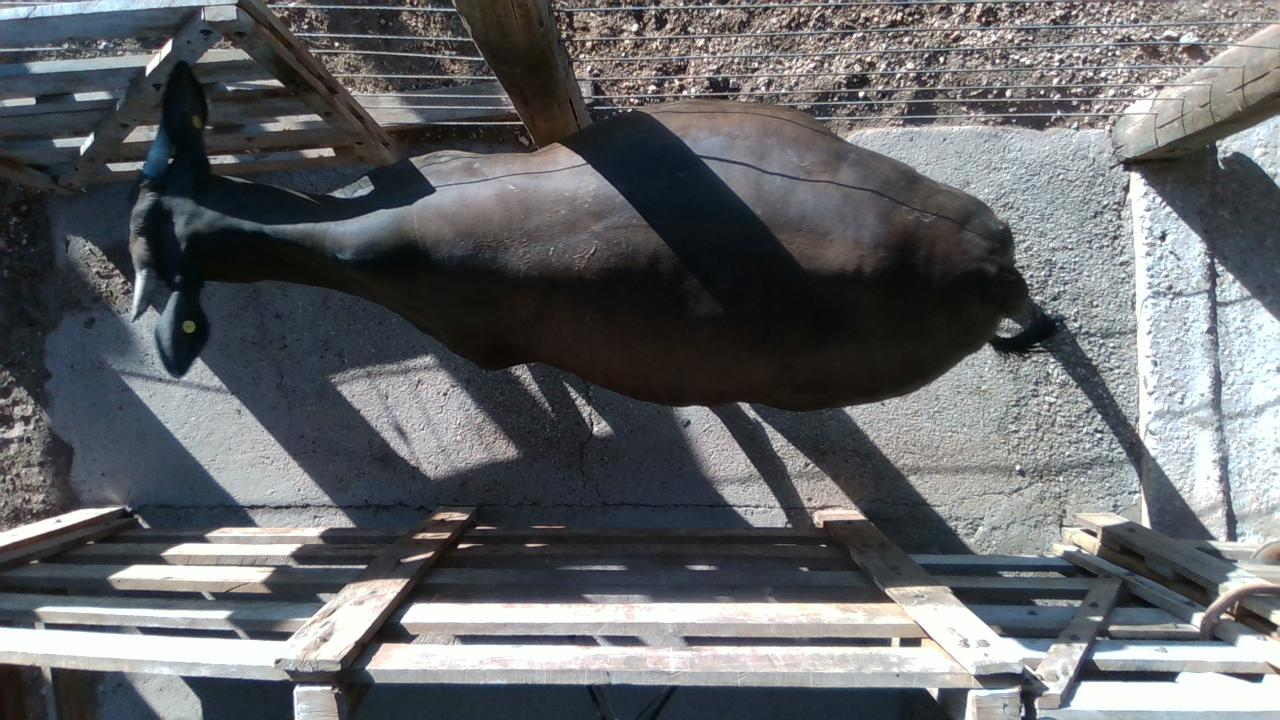cattle: (125, 59, 1057, 413)
